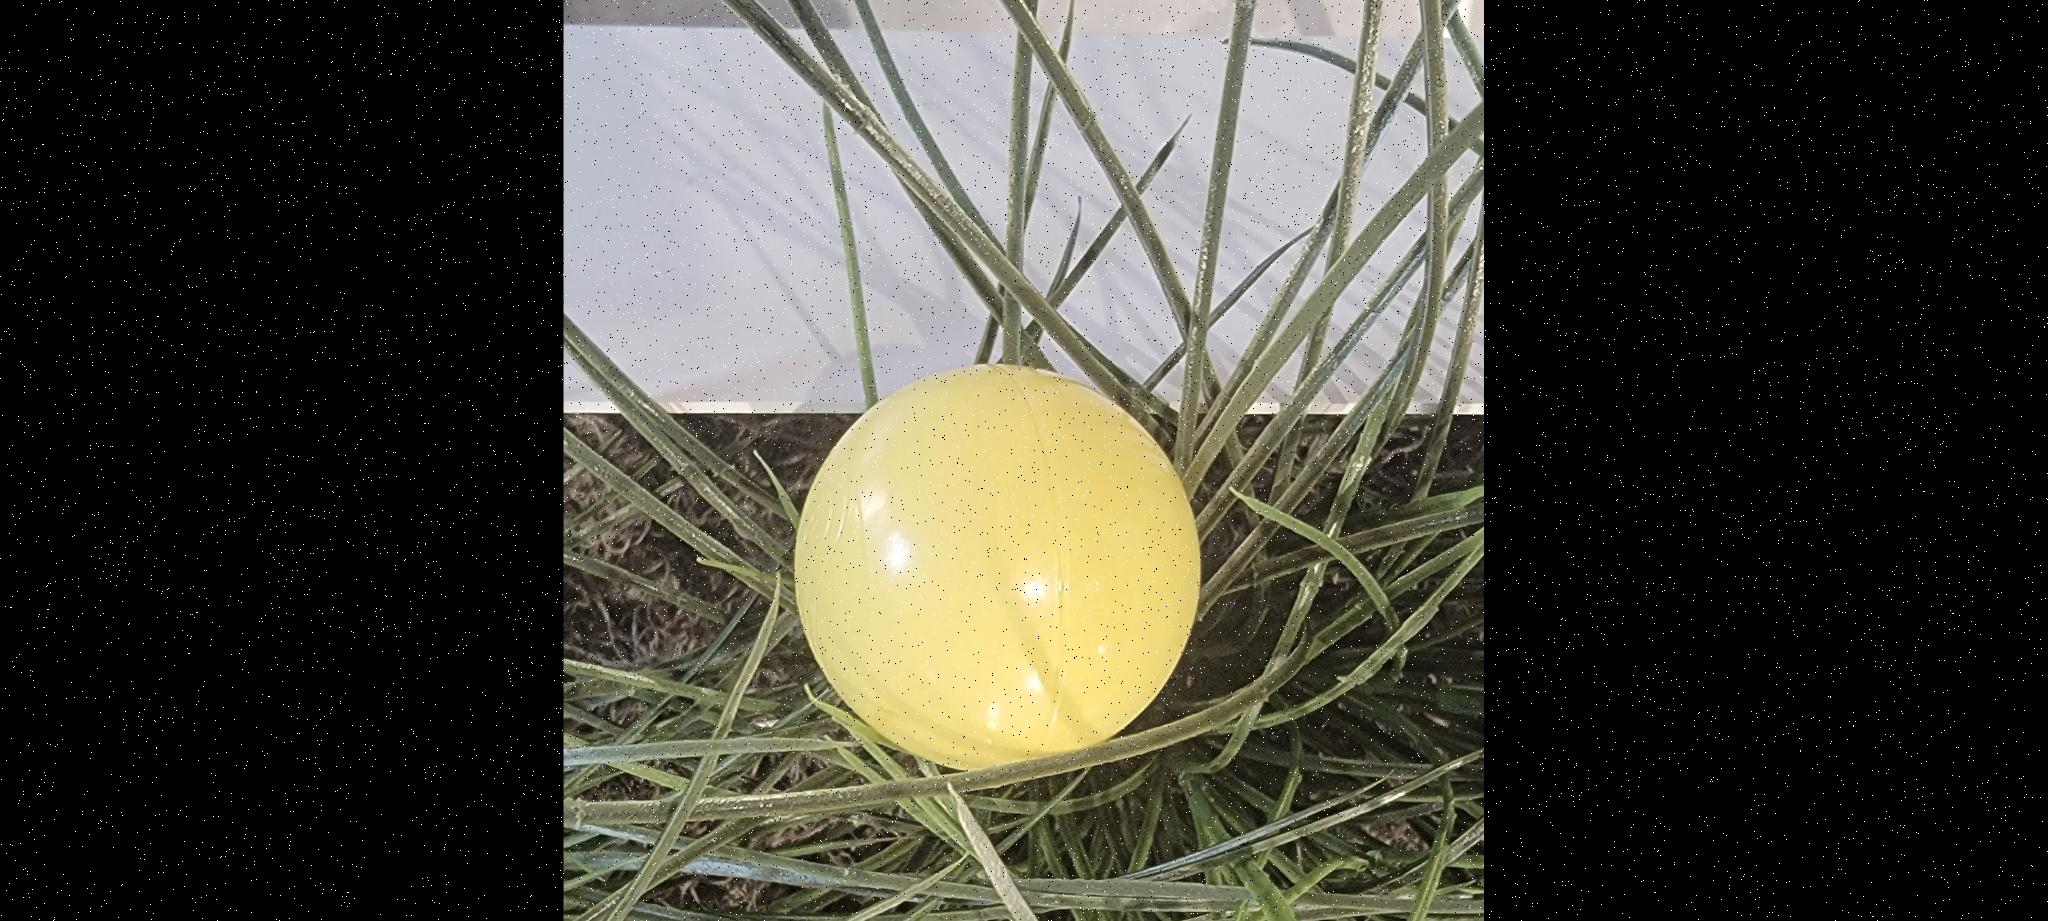Yellow-Ball: (1277, 794, 1484, 921)
